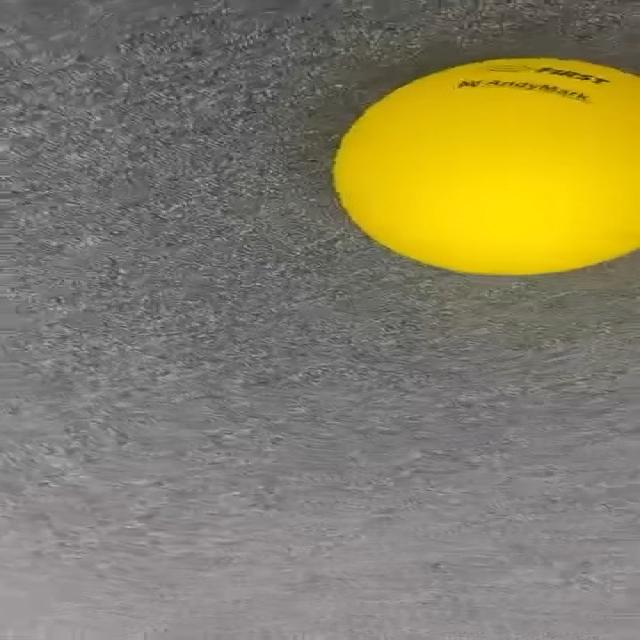Fuels: (324, 51, 640, 276)
